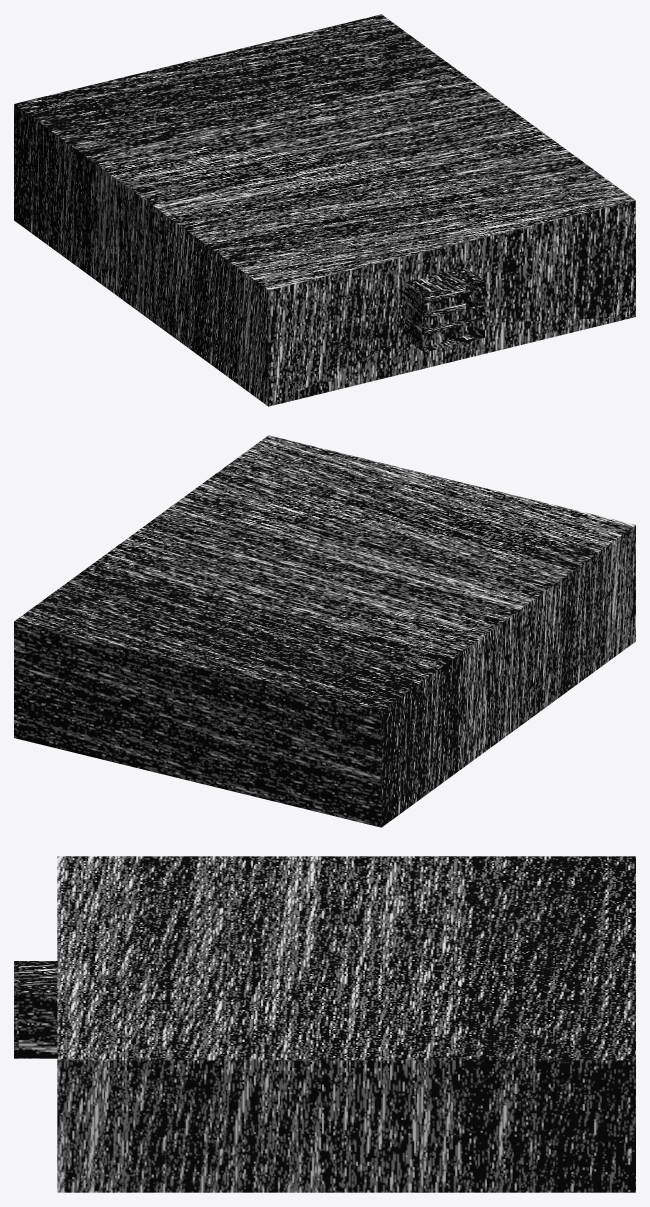
Rendered from RoomZero.fbx.
3 views of the same model, one above another, from view 1: azimuth 30°, elevation 25°; view 2: azimuth 150°, elevation 25°; view 3: azimuth 270°, elevation 25° (orthographic). The views are drawn at different scales.
Visible parts, largest first — view 1: Room; view 2: Room; view 3: Room.
Boxes of the visible parts, bbox=[...] form: Room: bbox=[14, 14, 635, 406]; Room: bbox=[14, 435, 635, 827]; Room: bbox=[14, 856, 635, 1192].
Size of the model in its own units: 3700 by 1120 by 4768.
